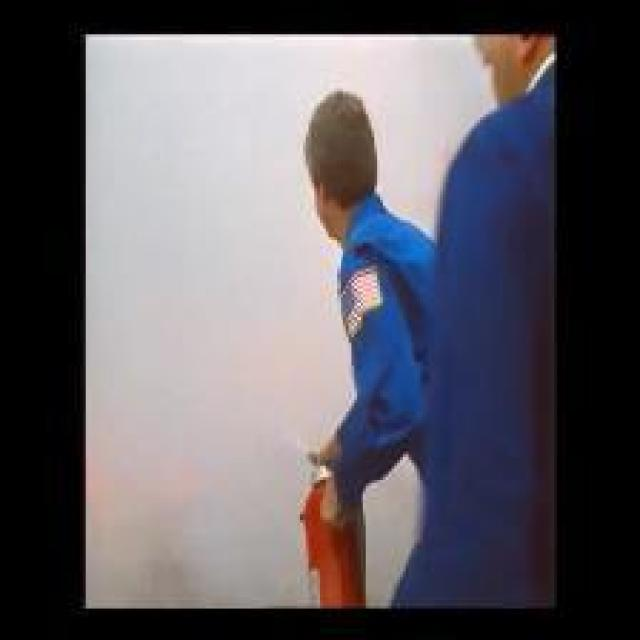other: (296, 436, 384, 606)
